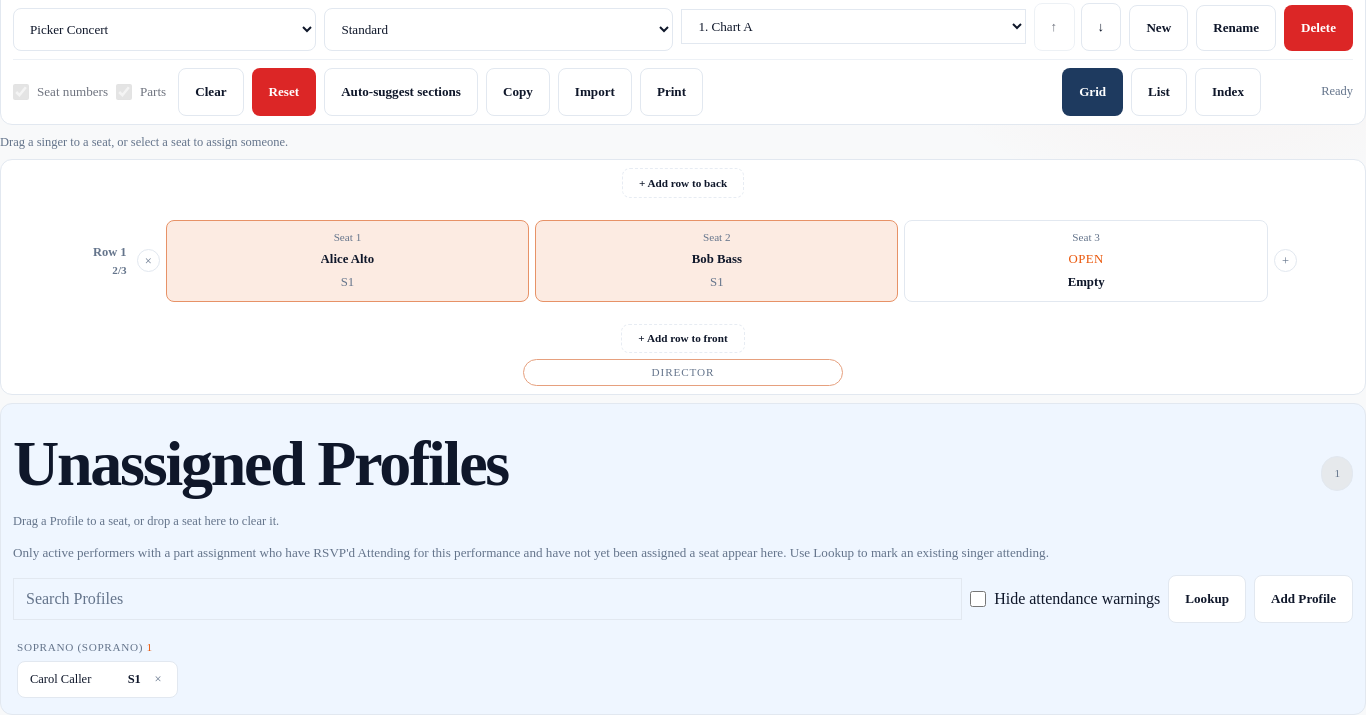
Test case: Seat assignment candidate picker › keeps the lookup and original search on RSVP failure and permits retry
(page scrolled)
Type "Dave" into the search field named "Search unassigned Profiles" at (488, 599), box left=13, top=578, right=962, bottom=620
(page scrolled)
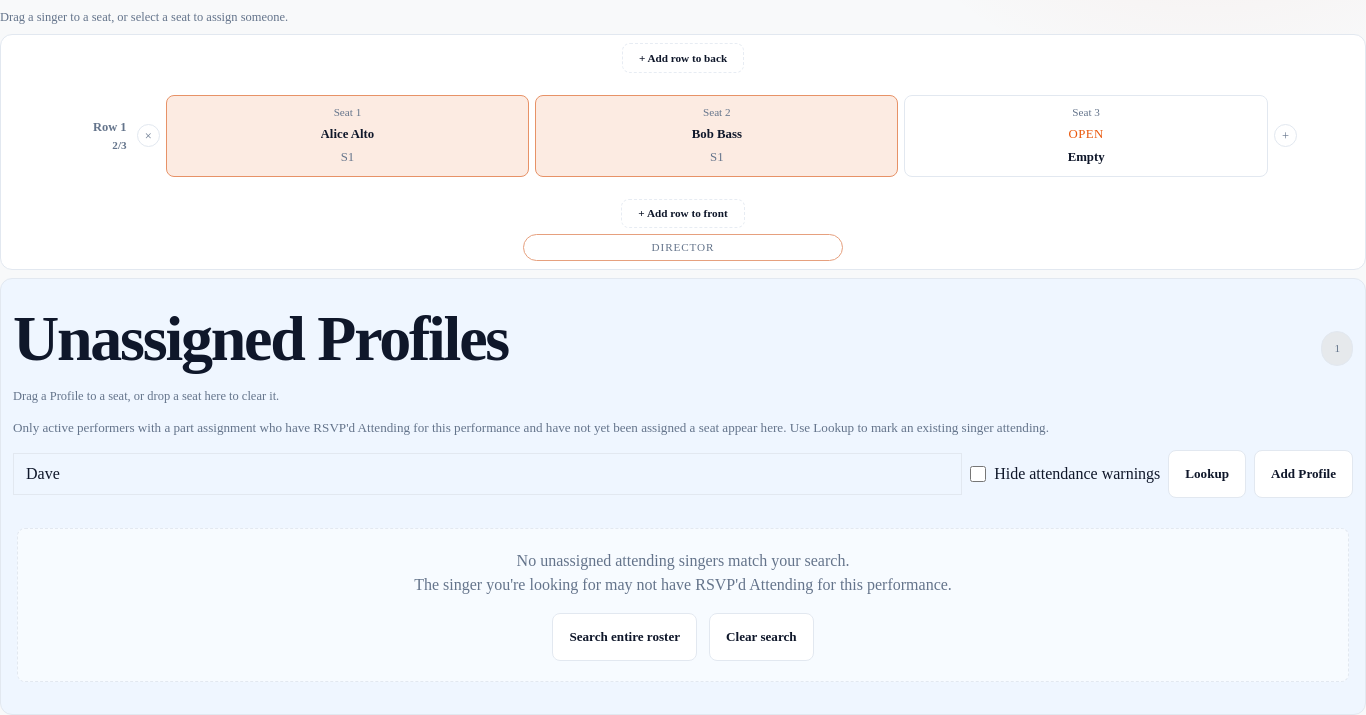
Click the button "Search entire roster" at (625, 637), box left=552, top=613, right=697, bottom=661
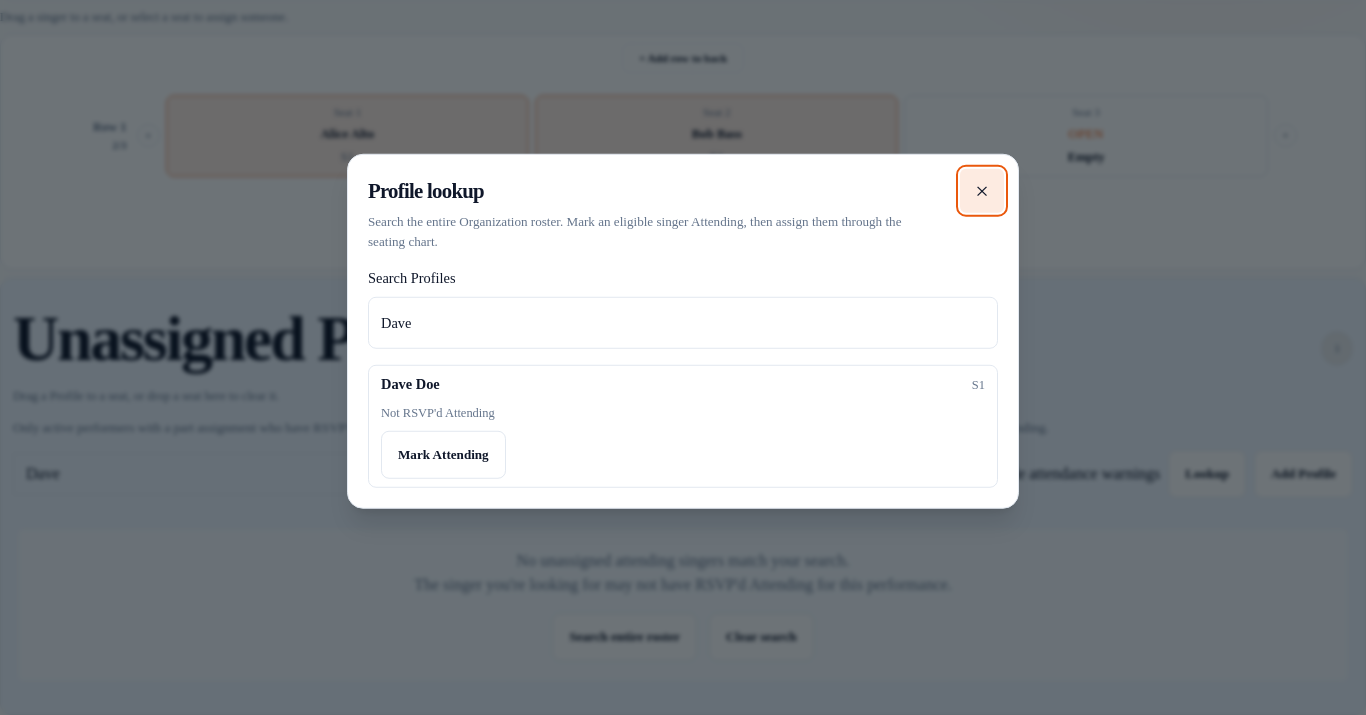
Click the button with aria-label "Mark Dave Doe Attending" at (443, 454), box left=381, top=430, right=506, bottom=478
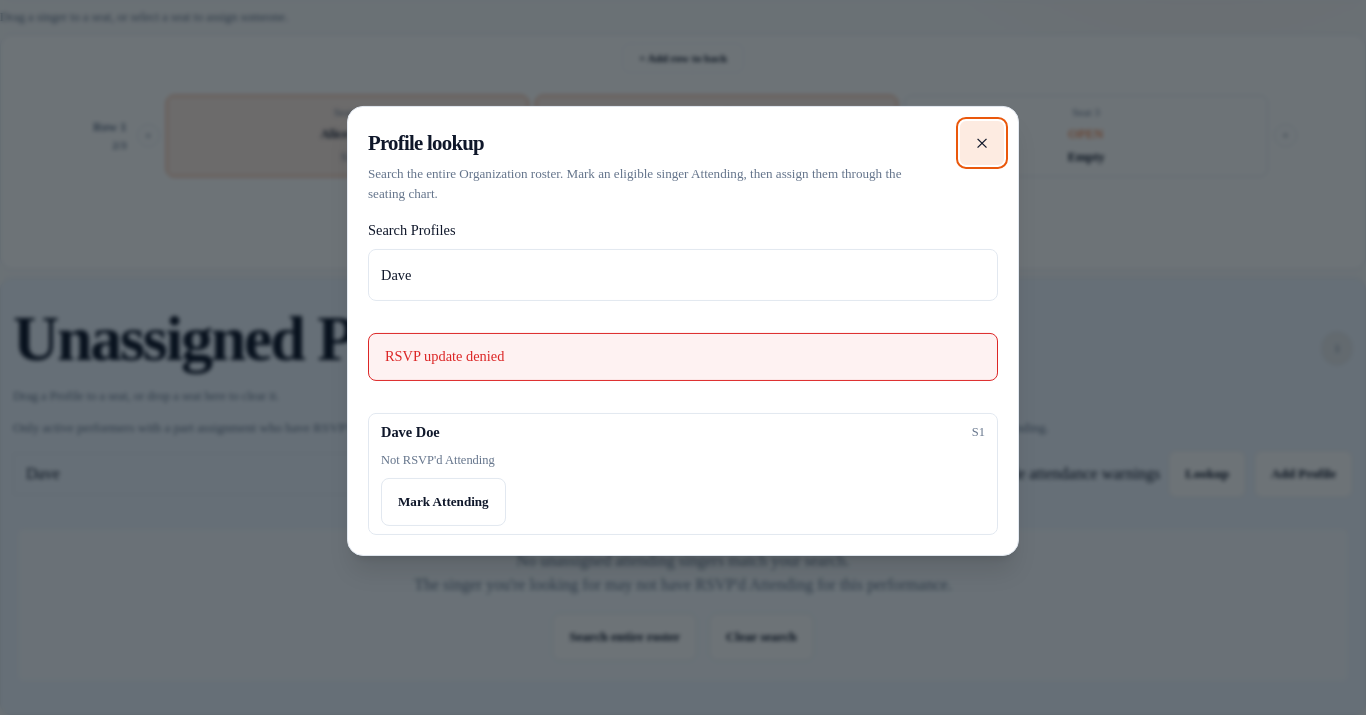
Check: the search field holds "Dave", box left=368, top=249, right=998, bottom=301
Check: the button with aria-label "Mark Dave Doe Attending" is enabled, box left=381, top=478, right=506, bottom=526
Check: the message reads "RSVP update denied", box left=385, top=348, right=504, bottom=364
